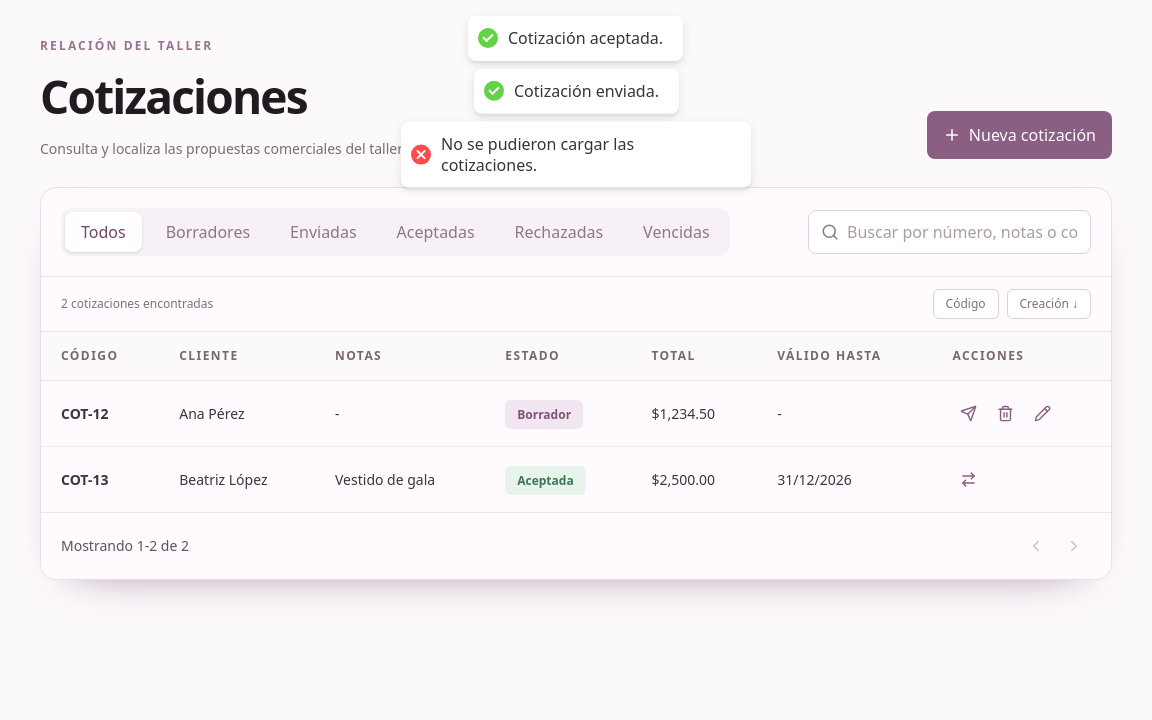
Test case: QuotesPage › does not send a draft without a future validity date
Expected: the text "COT-12" is shown, [61, 404, 108, 422]
Click the button named "Enviar cotización" at (969, 414), box [952, 397, 986, 430]
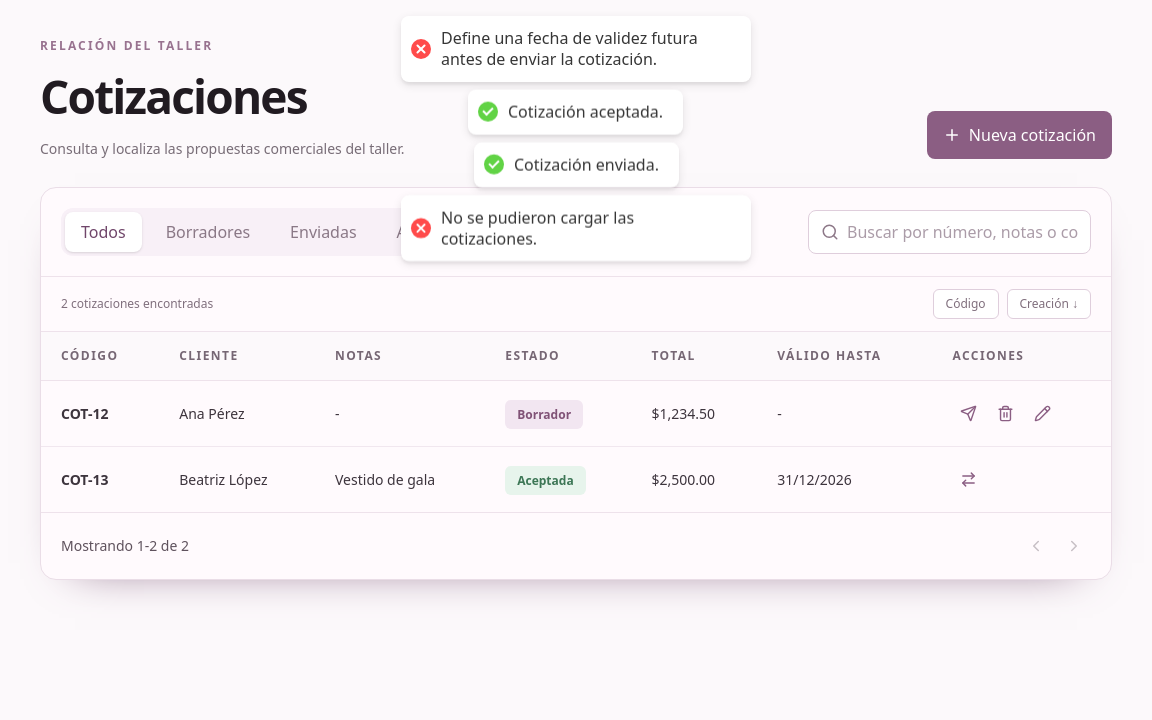
Expected: the text "Define una fecha de validez futura antes de enviar la cotización." is shown, [441, 28, 731, 70]
